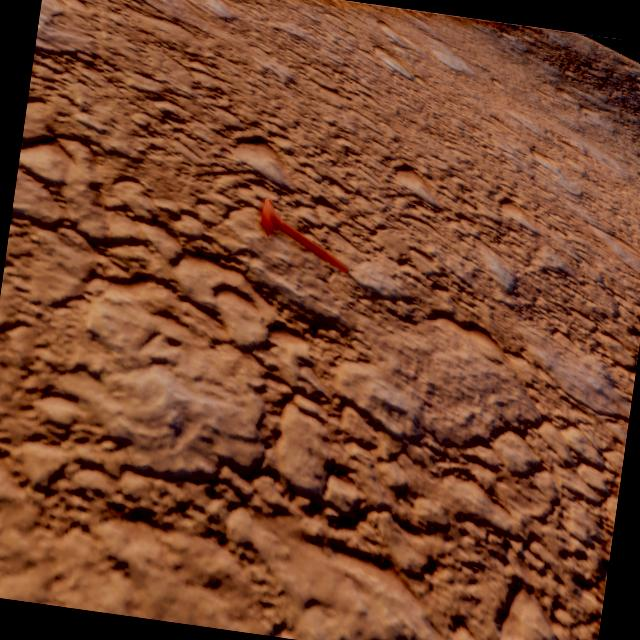newhammer: (255, 197, 358, 275)
